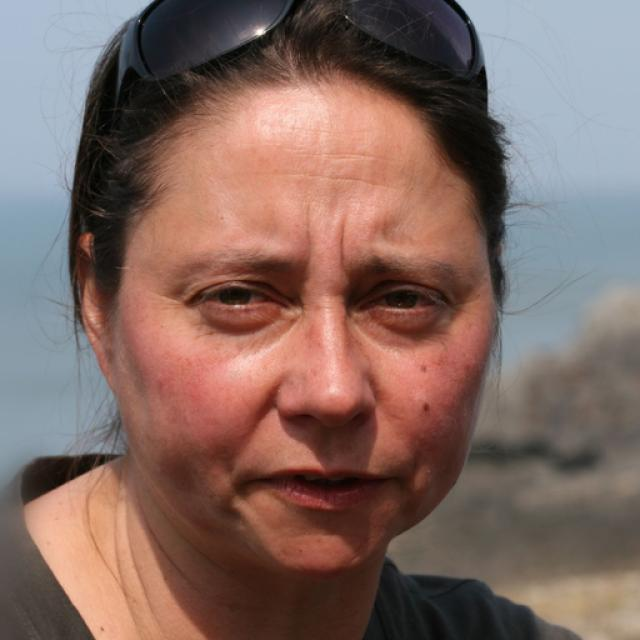sad: (116, 97, 495, 574)
